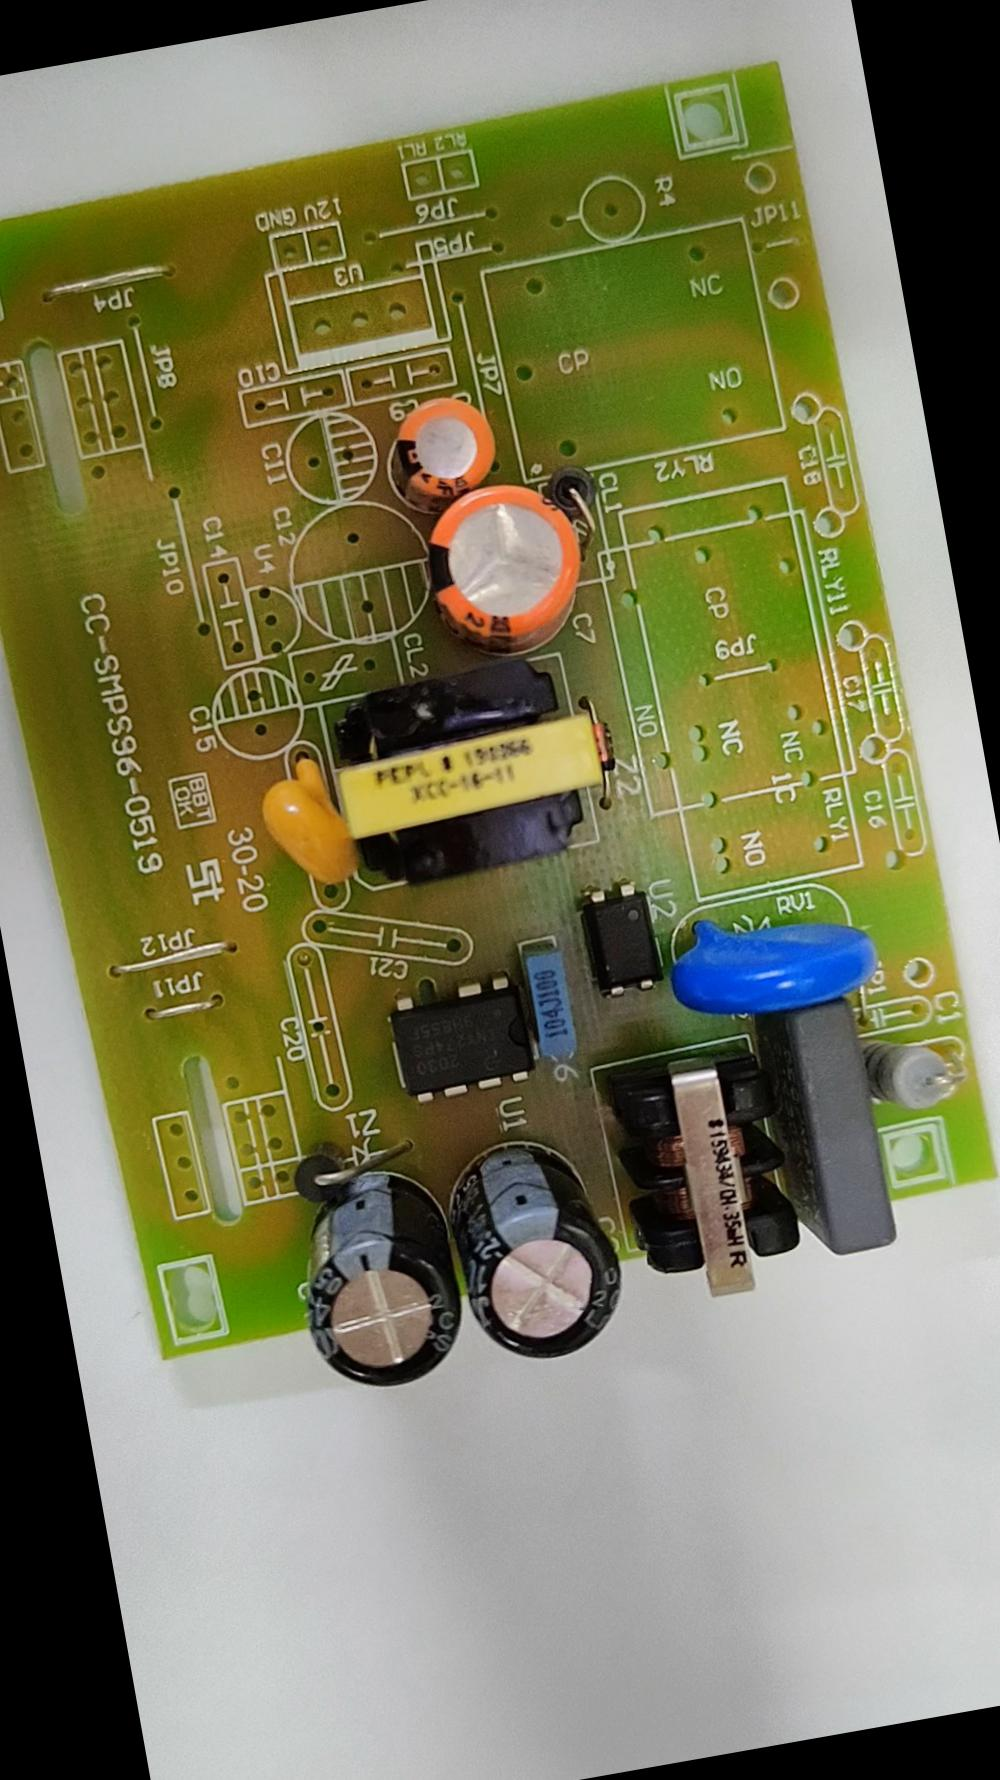Cap1: (412, 465, 610, 680)
Cap2: (378, 385, 506, 504)
Cap3: (433, 1116, 634, 1381)
Cap4: (269, 1148, 472, 1412)
MOSFET: (375, 963, 542, 1115)
Mov: (653, 879, 895, 1035)
Resistor: (857, 1016, 972, 1122)
Transformer: (307, 644, 609, 908), (587, 1035, 824, 1326)
